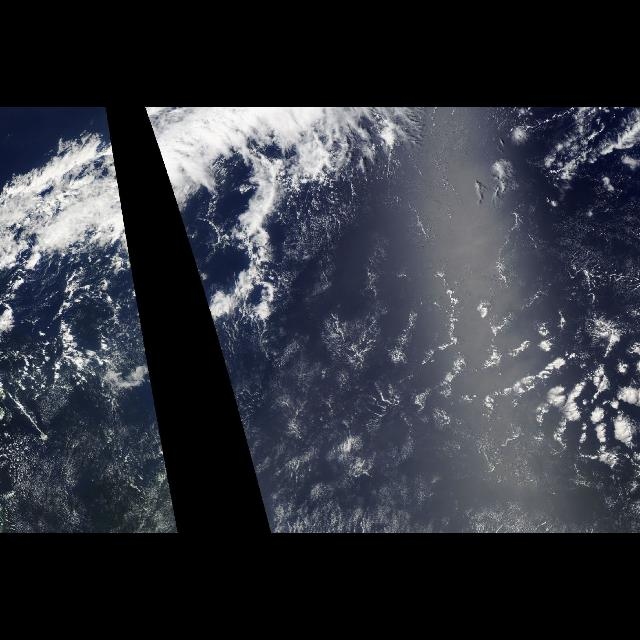Fish: (144, 107, 322, 330), (25, 107, 145, 330)
Flower: (514, 341, 636, 475)
Gravel: (320, 220, 640, 468), (458, 109, 640, 208)
Sugar: (228, 376, 456, 532), (6, 376, 178, 530)
